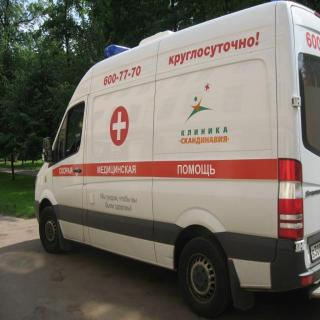Ambulance: (0, 2, 320, 307)
